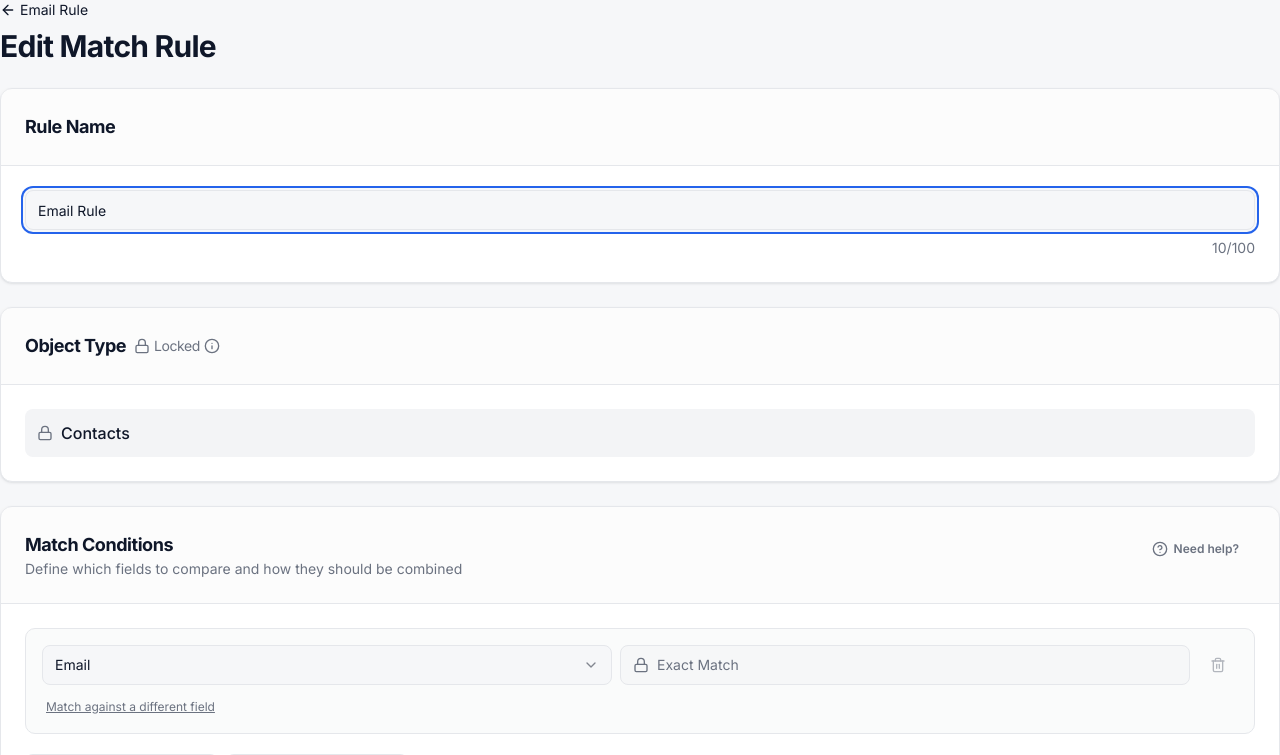
Scenario: MatchRuleForm edit behavior › persists user-selected field/algorithm when editing a rule
The width and height of the screenshot is (1280, 755).
Expected: the heading "Edit Match Rule" is shown, [0,28,216,64]
Click the dropdown at x=73, y=664, box [42,645,612,685]
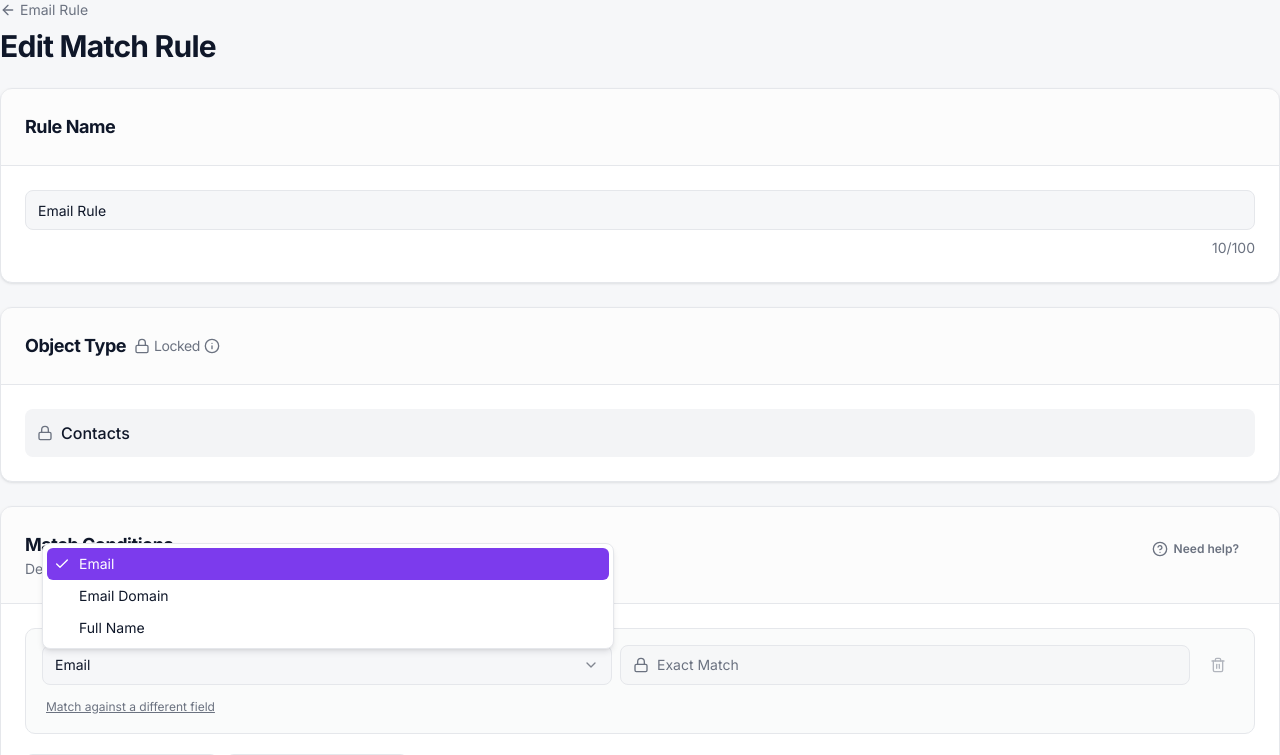
Click the option "Full Name" at x=112, y=628, box [79,619,145,636]
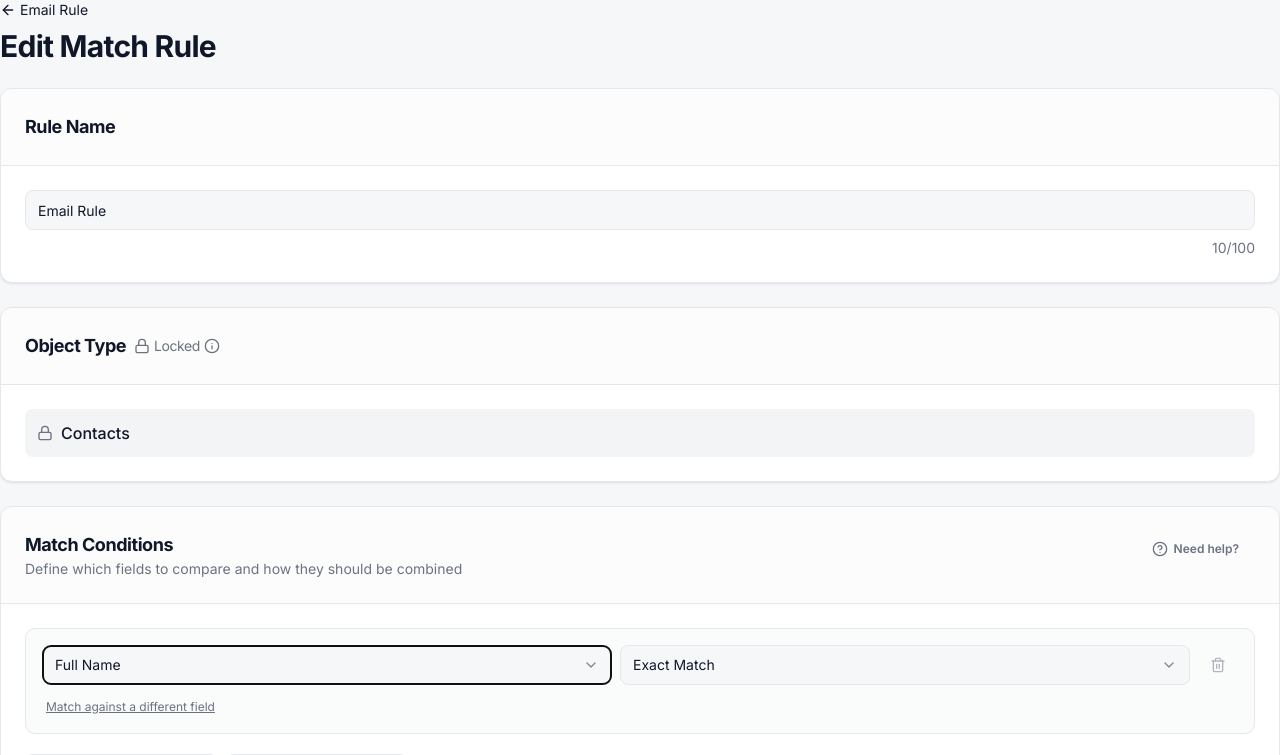
Click the dropdown labelled "Exact Match" at x=674, y=664, box [620,645,1190,685]
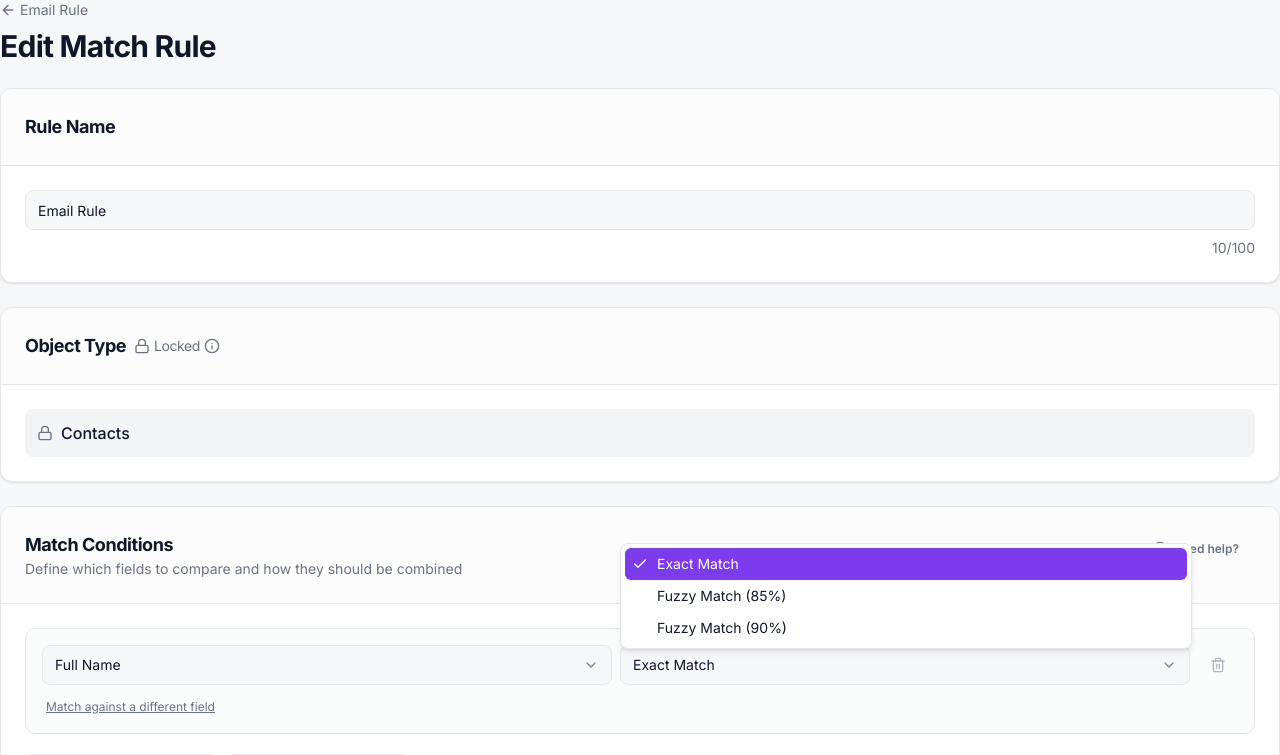
Click the option "Fuzzy Match (85%)" at x=722, y=596, box [657,587,786,604]
(page scrolled)
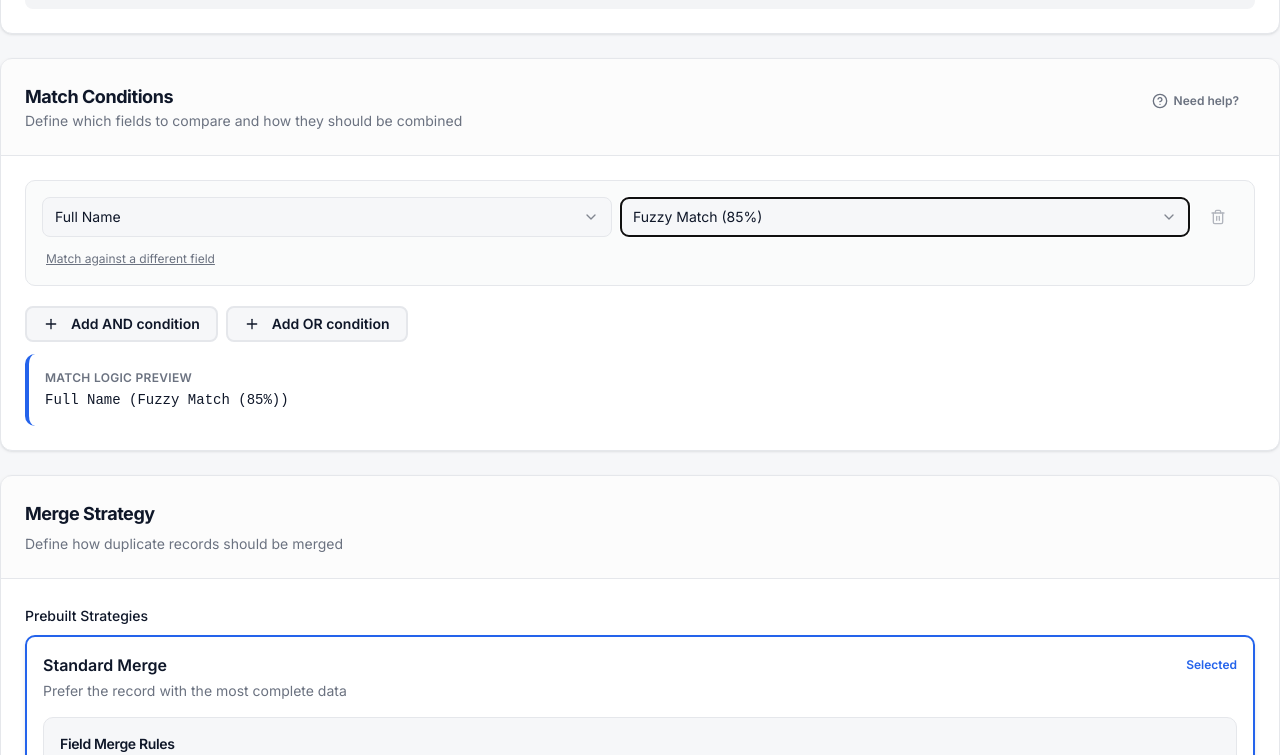
Result: the text "Full Name (Fuzzy Match (85%))" is shown at [45,392,289,408]
